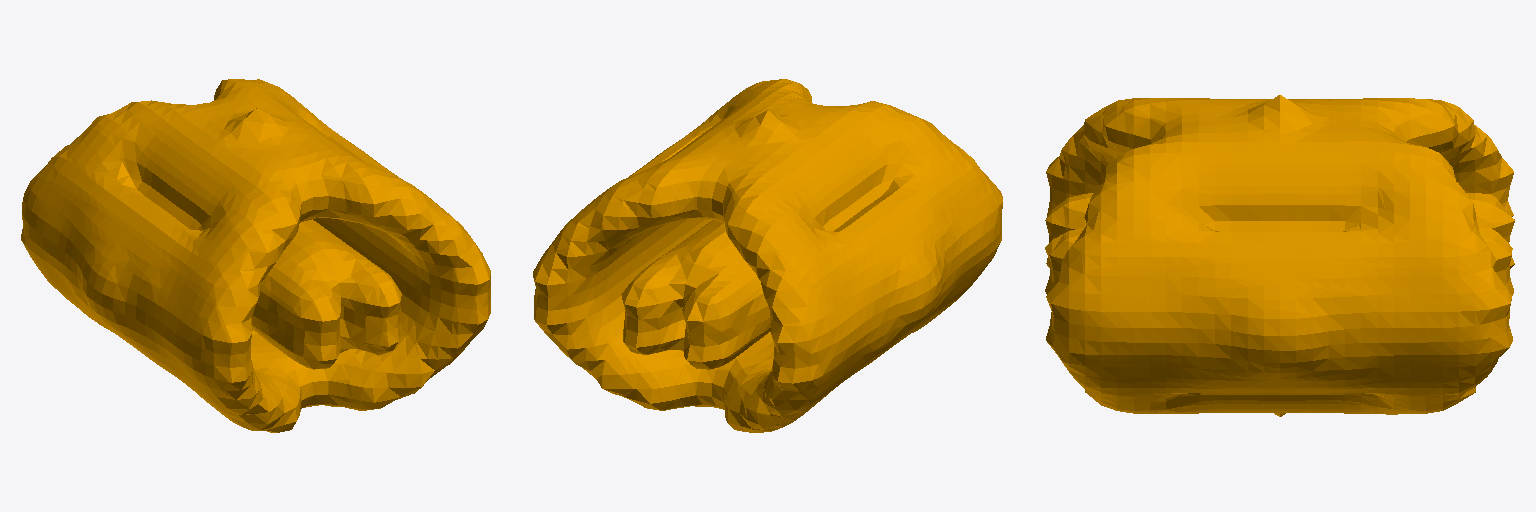
robot.urdf — M17_2:
<?xml version="1.0"?>
<robot name="M17_2">
  <link name="base_link">
    <visual>
      <geometry>
        <mesh filename="../../../../meshes/egad/train/M17_2.obj" />
      </geometry>
    </visual>
  </link>
</robot>

--- Render facts (derived) ---
Views: 3 orthographic renders of the robot side by side, from view 1: azimuth 30°, elevation 25°; view 2: azimuth 150°, elevation 25°; view 3: azimuth 270°, elevation 25°.
Model M17_2 with 1 links and 0 joints (none), rooted at base_link, posed all joints at 0.
Visible links, largest first — view 1: base_link; view 2: base_link; view 3: base_link.
Link boxes in pixels (x1,y1,x2,y2): base_link: (21,79,490,432); base_link: (533,79,1002,432); base_link: (1045,95,1514,416).
Size in the robot's own frame: 0.0659 by 0.075 by 0.0567 metres.
Meshes: 1 distinct files referenced, 1 mesh visuals loaded (1 OBJ).